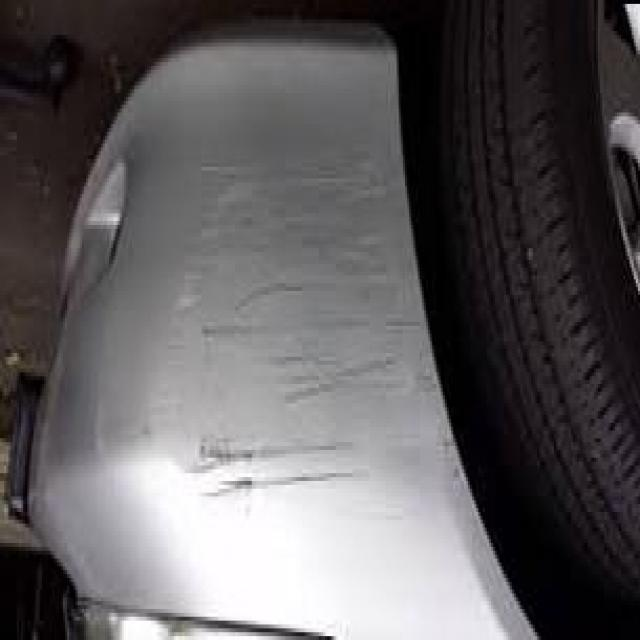scratch: (180, 134, 418, 522)
